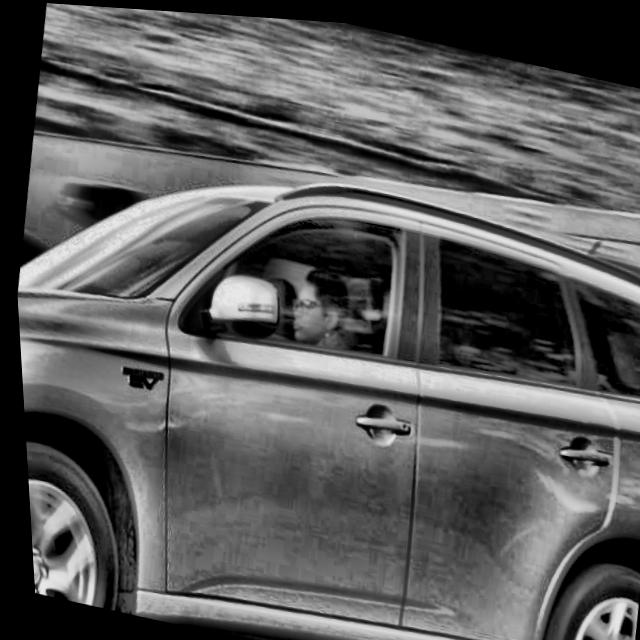light_vehicle: (5, 111, 640, 640)
